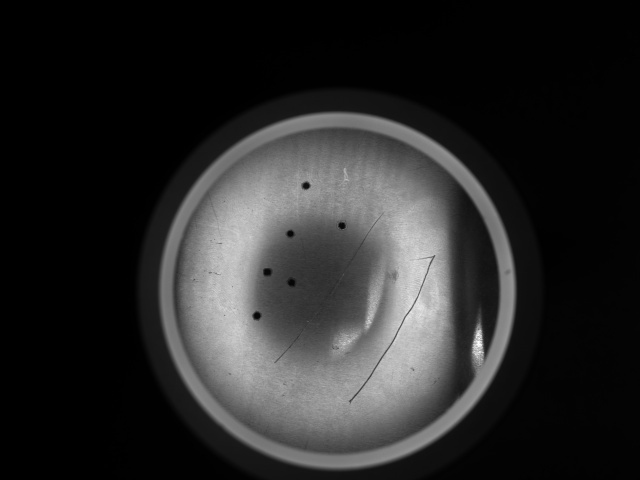ca_shang: (345, 244, 443, 414), (285, 206, 378, 365)
zhen_kong: (292, 169, 324, 199), (240, 303, 274, 330), (331, 210, 355, 244), (256, 259, 282, 287), (280, 222, 304, 249), (282, 272, 306, 298)
